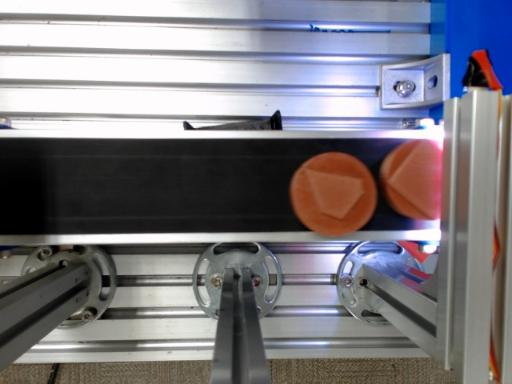Brown_Waper: (290, 152, 377, 235), (380, 140, 442, 219)
